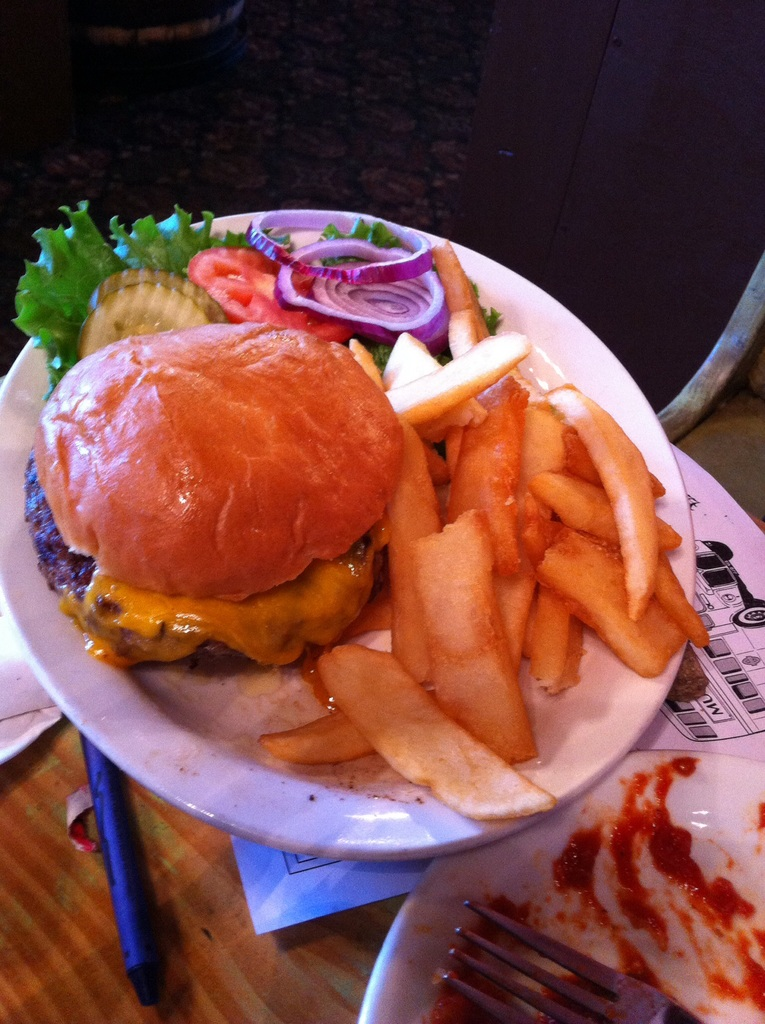French fries: (247, 240, 710, 825)
